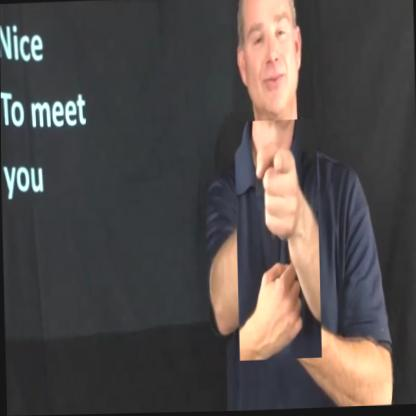NiceToMeetYou: (233, 120, 321, 361)
